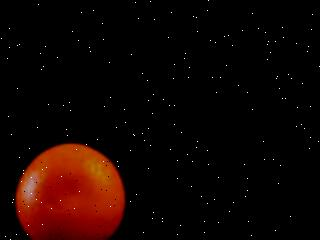Orange: (15, 141, 127, 239)
